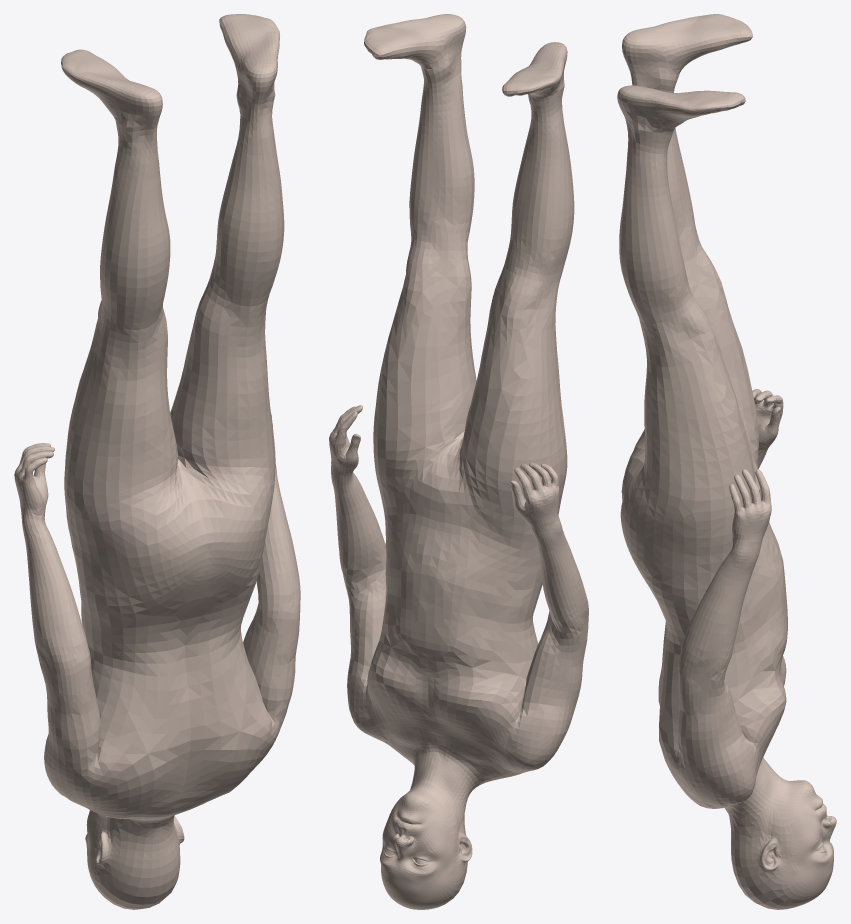
The model's file is avatar_output2.glb.
The picture shows the model from 3 angles, left to right: view 1: azimuth 30°, elevation 25°; view 2: azimuth 150°, elevation 25°; view 3: azimuth 270°, elevation 25°; orthographic projection. The views are drawn at different scales.
Visible parts, largest first — view 1: geometry_0; view 2: geometry_0; view 3: geometry_0.
Boxes of the visible parts, <box> form: geometry_0: <box>14,14,300,909</box>; geometry_0: <box>329,14,588,909</box>; geometry_0: <box>617,14,836,909</box>.
Bounding box in the file's own units: 0.5371 × 1.78 × 0.4188.
